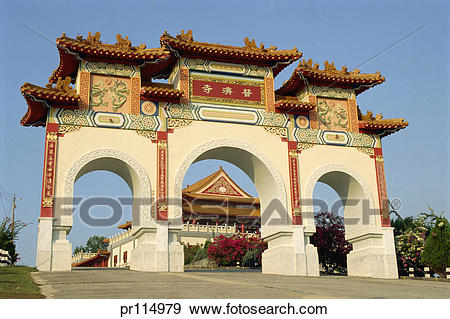Buddhist Temple: (28, 26, 369, 259)
